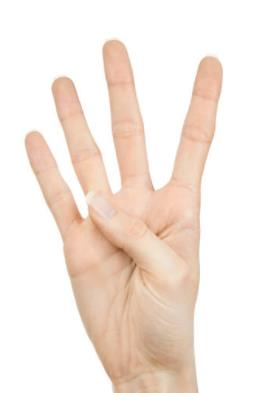right: (20, 32, 227, 361)
